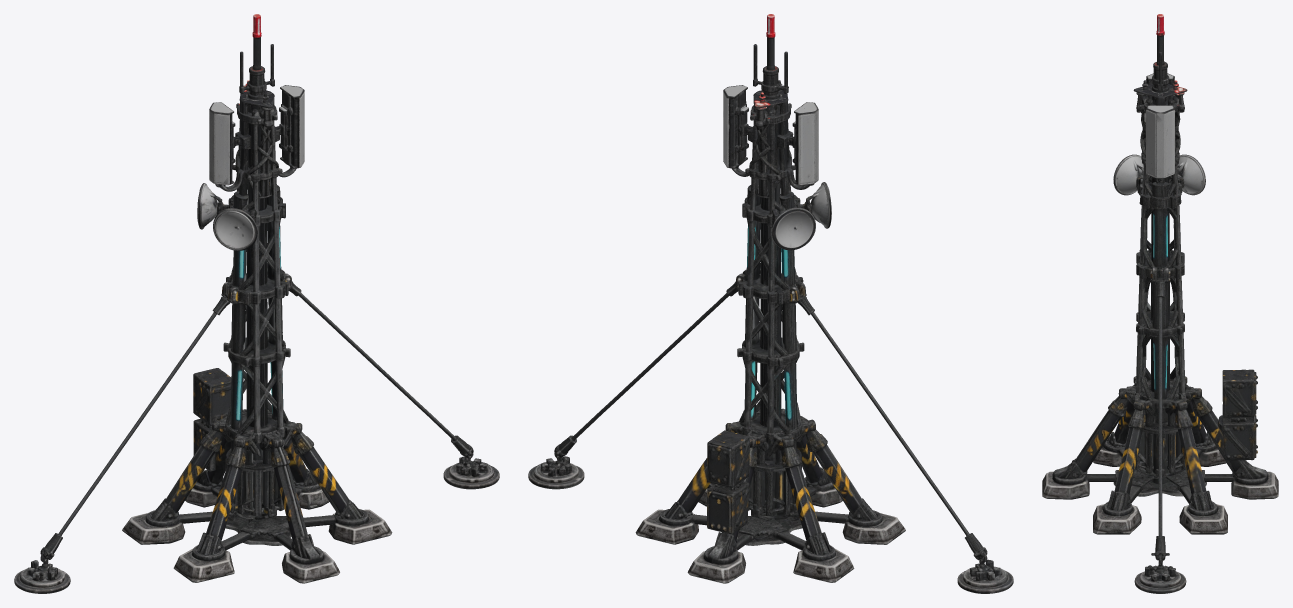
The model's file is neon_tower.glb.
3 renders of one model, left to right at view 1: azimuth 30°, elevation 25°; view 2: azimuth 150°, elevation 25°; view 3: azimuth 270°, elevation 25°, orthographic. The views are drawn at different scales.
Parts seen in each view (by area): view 1: neon_tower; view 2: neon_tower; view 3: neon_tower.
Boxes of the visible parts, x1,y1,x2,y2 form: neon_tower: [14, 14, 499, 593]; neon_tower: [528, 14, 1013, 593]; neon_tower: [1042, 14, 1278, 593].
Bounding box in the file's own units: 184 × 190 × 85.79.
1 material, 1 textured.
